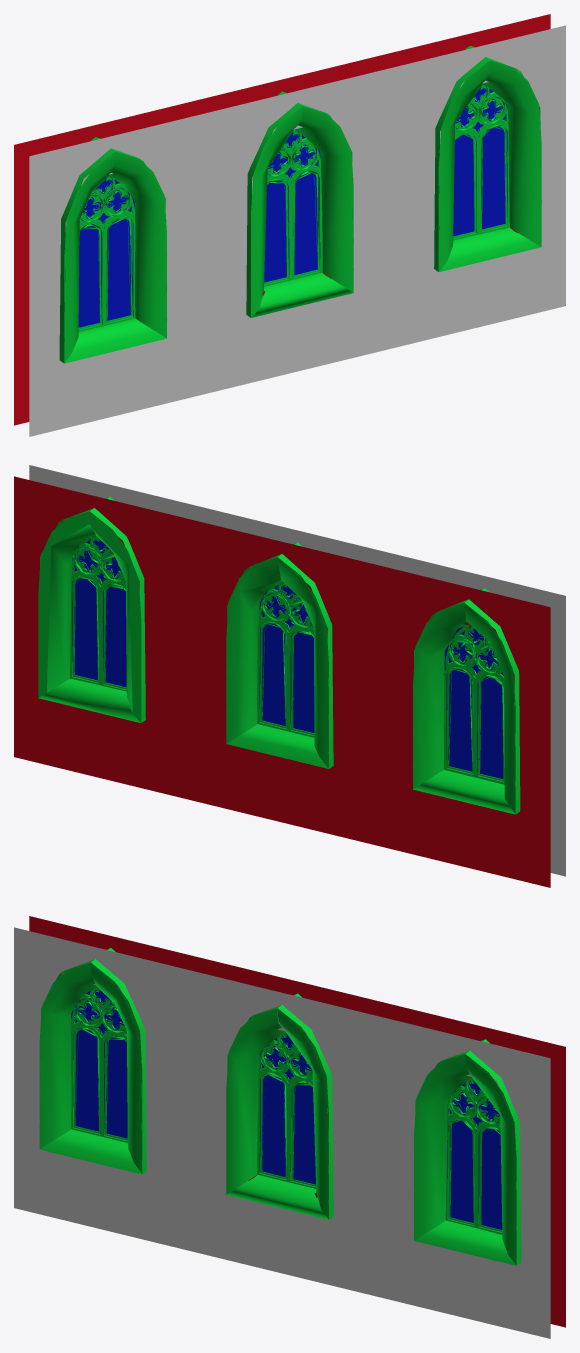
The model's file is Wall_Windows_2 (2).fbx.
3 views of the same model, one above another, from view 1: azimuth 30°, elevation 25°; view 2: azimuth 150°, elevation 25°; view 3: azimuth 330°, elevation 25° (orthographic).
Visible parts, largest first — view 1: Windows_3.001; view 2: Windows_3.001; view 3: Windows_3.001.
Part boxes in pixels (x1,y1,x2,y2): Windows_3.001: [14, 14, 565, 436]; Windows_3.001: [14, 465, 565, 887]; Windows_3.001: [14, 916, 565, 1338].
Bounding box in the file's own units: 1000 × 500 × 79.94.
